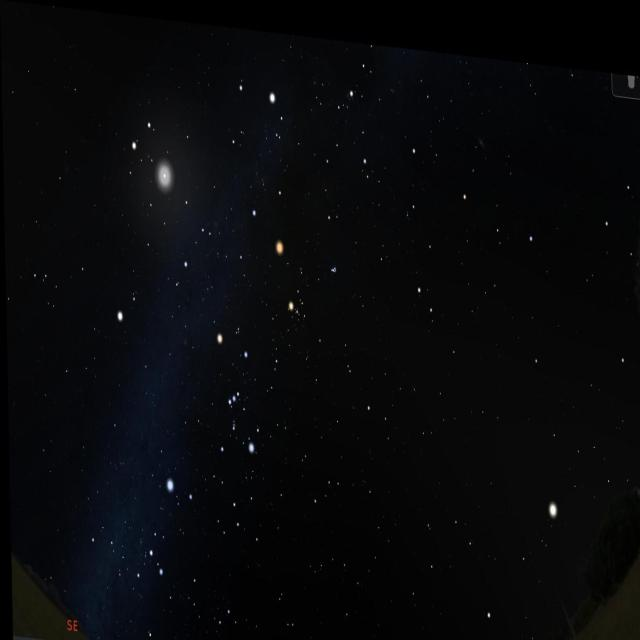canis_major: (138, 460, 200, 585)
canis_minor: (112, 276, 142, 334)
gemini: (127, 104, 225, 276)
moon: (134, 149, 182, 206)
orion: (208, 332, 264, 471)
pleiades: (324, 247, 347, 284)
taurus: (277, 222, 344, 341)
